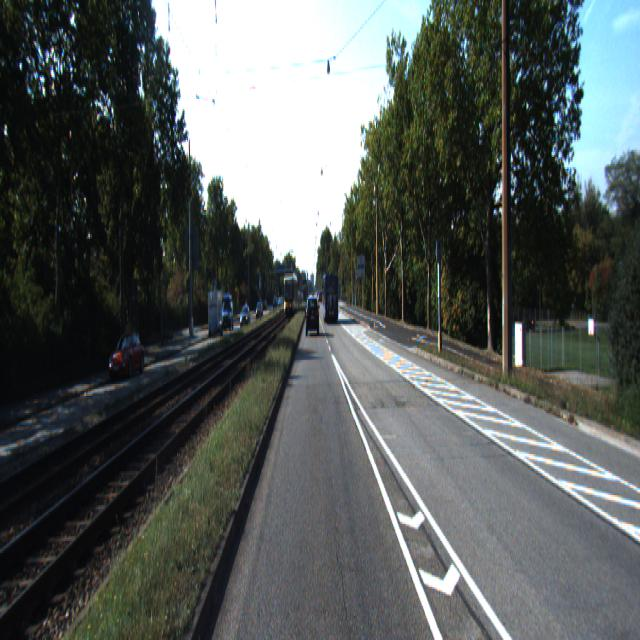Car: (109, 330, 145, 383), (322, 273, 339, 324), (207, 290, 223, 340), (306, 298, 319, 337)
